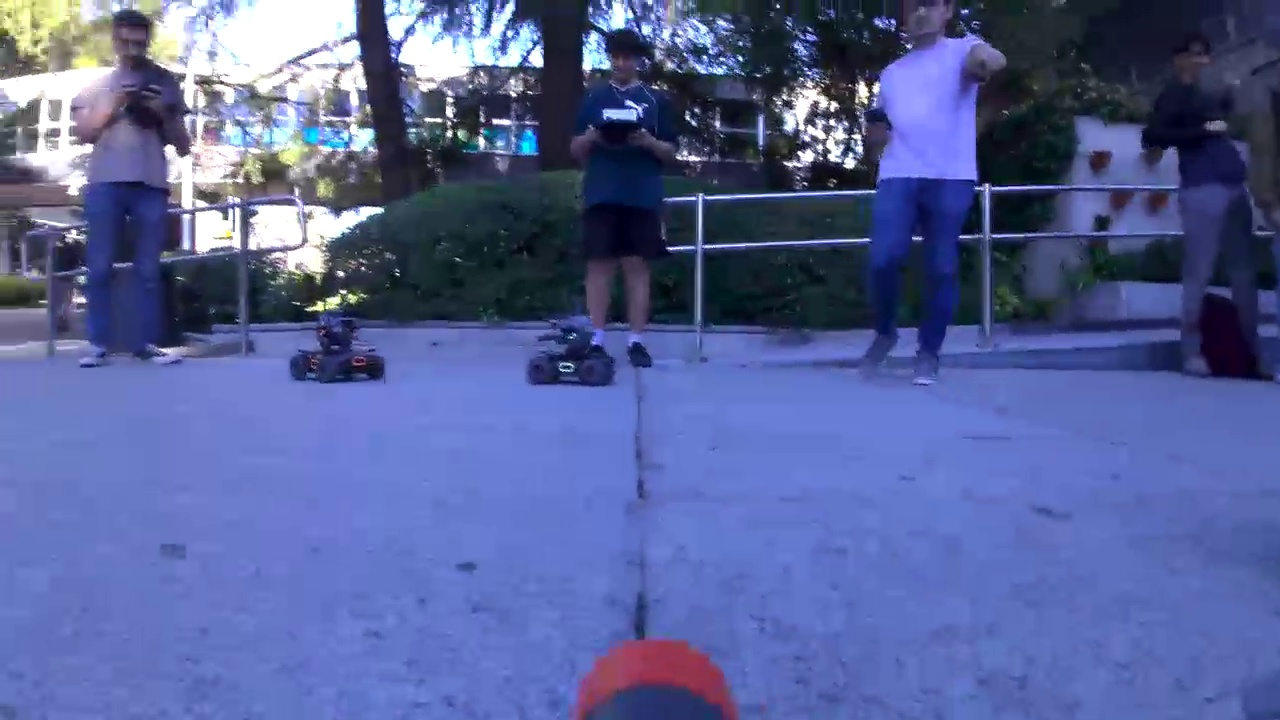robot: (289, 305, 388, 382), (525, 324, 619, 391)
